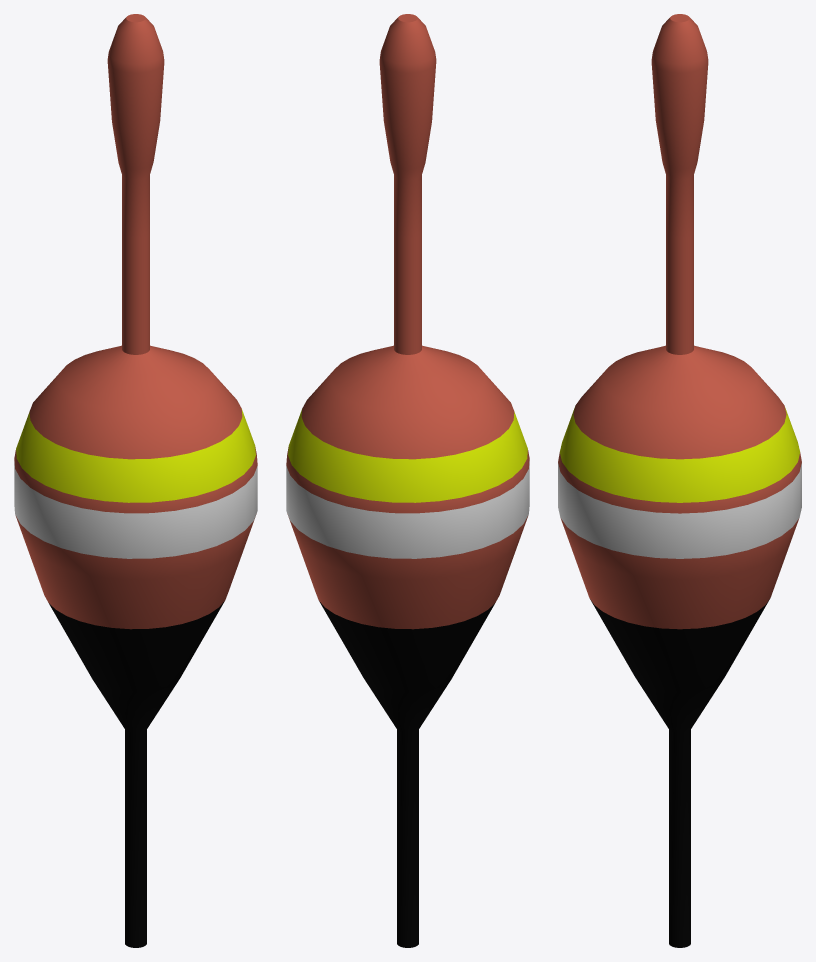
Rendered from splawik1.fbx.
3 views of the same model, side by side, from view 1: azimuth 30°, elevation 25°; view 2: azimuth 150°, elevation 25°; view 3: azimuth 270°, elevation 25° (orthographic).
Parts seen in each view (by area): view 1: Cylinder; view 2: Cylinder; view 3: Cylinder.
Part boxes in pixels (x1=…): Cylinder: x1=14, y1=14, x2=257, y2=947; Cylinder: x1=286, y1=14, x2=529, y2=947; Cylinder: x1=558, y1=14, x2=801, y2=947.
Size of the model in its own units: 200 by 837 by 200.
